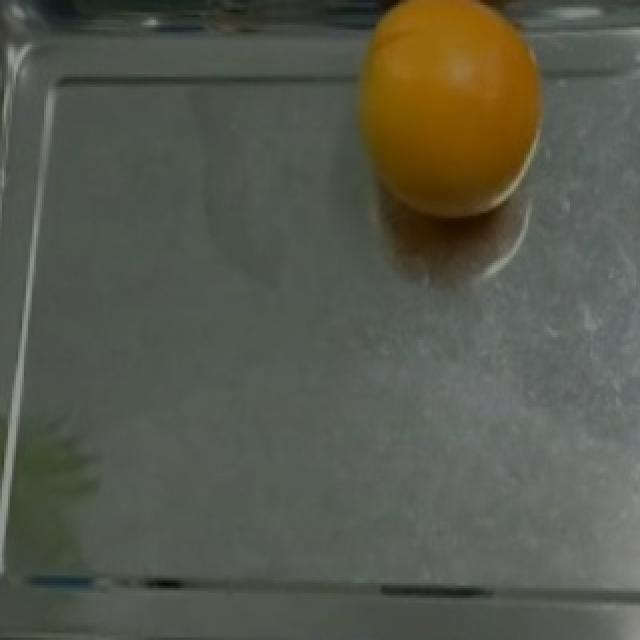Fruit: (338, 0, 558, 236)
